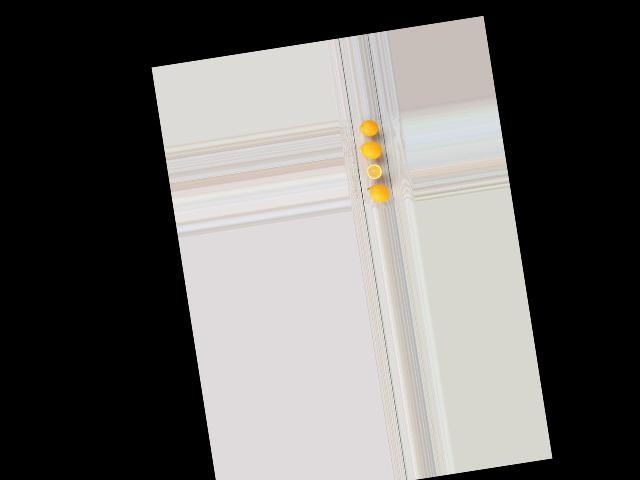lemon: (365, 183, 390, 204)
